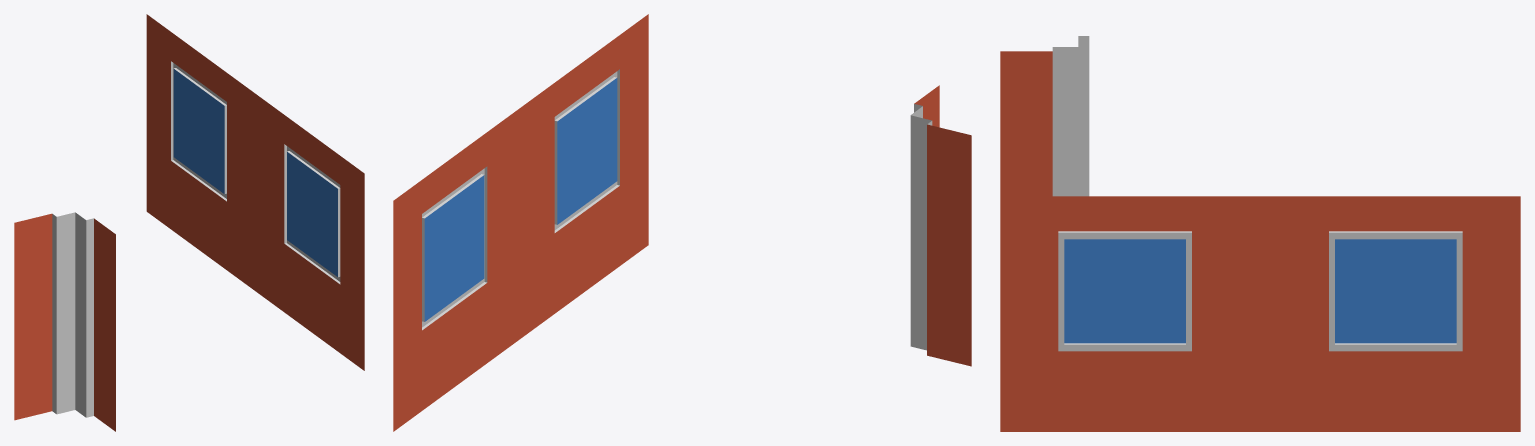
File: 05b_mid.fbx
The picture shows the model from 3 angles, left to right: view 1: azimuth 30°, elevation 25°; view 2: azimuth 150°, elevation 25°; view 3: azimuth 270°, elevation 25°; orthographic projection. The views are drawn at different scales.
Parts seen in each view (by area): view 1: 05b_Mid; view 2: 05b_Mid; view 3: 05b_Mid.
Boxes of the visible parts, <box> form: 05b_Mid: <box>14,14,364,431</box>; 05b_Mid: <box>393,14,971,431</box>; 05b_Mid: <box>1000,36,1520,431</box>.
Size of the model in its own units: 41.8 by 25 by 50.
